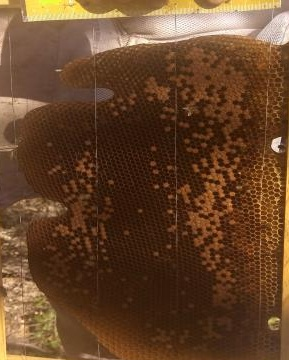cria: (164, 46, 250, 340), (41, 150, 115, 294)
